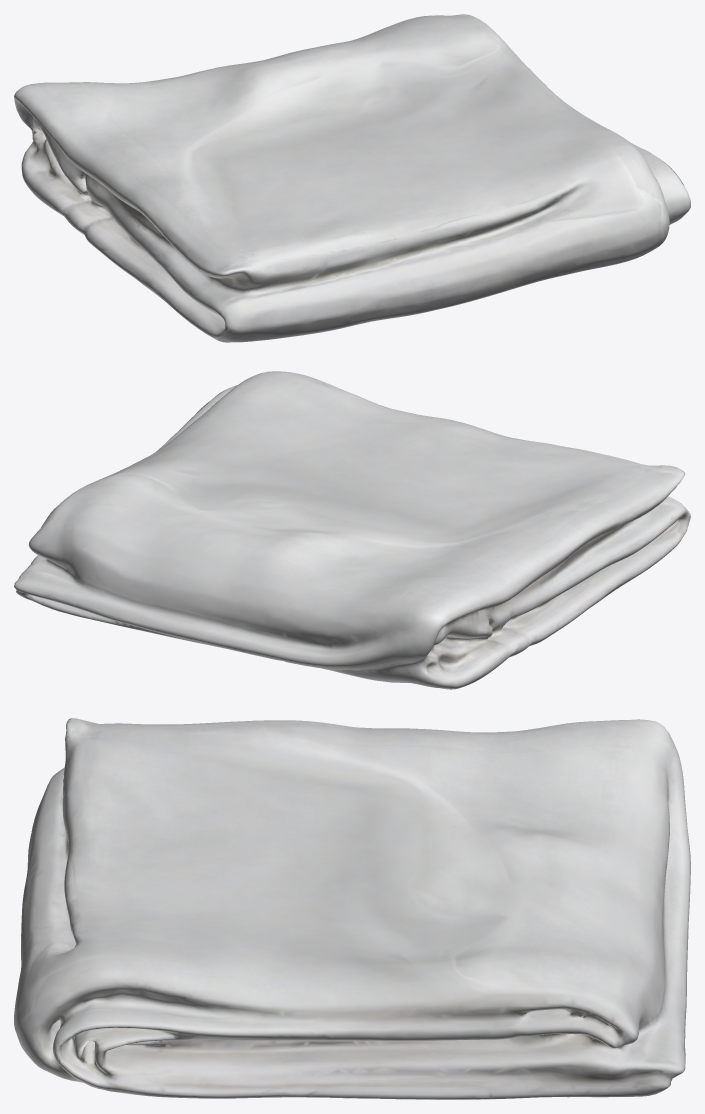
The model's file is folded_thin_cloth_cle_1108171322_refine.fbx.
The picture shows the model from 3 angles, top to bottom: view 1: azimuth 30°, elevation 25°; view 2: azimuth 150°, elevation 25°; view 3: azimuth 270°, elevation 25°; orthographic projection. The views are drawn at different scales.
Parts seen in each view (by area): view 1: Mesh_0; view 2: Mesh_0; view 3: Mesh_0.
Part boxes in pixels (bbox=[...]): Mesh_0: bbox=[14, 14, 690, 342]; Mesh_0: bbox=[14, 371, 690, 689]; Mesh_0: bbox=[14, 718, 690, 1099].
Size of the model in its own units: 199 by 39.8 by 195.
1 material, 1 textured.
